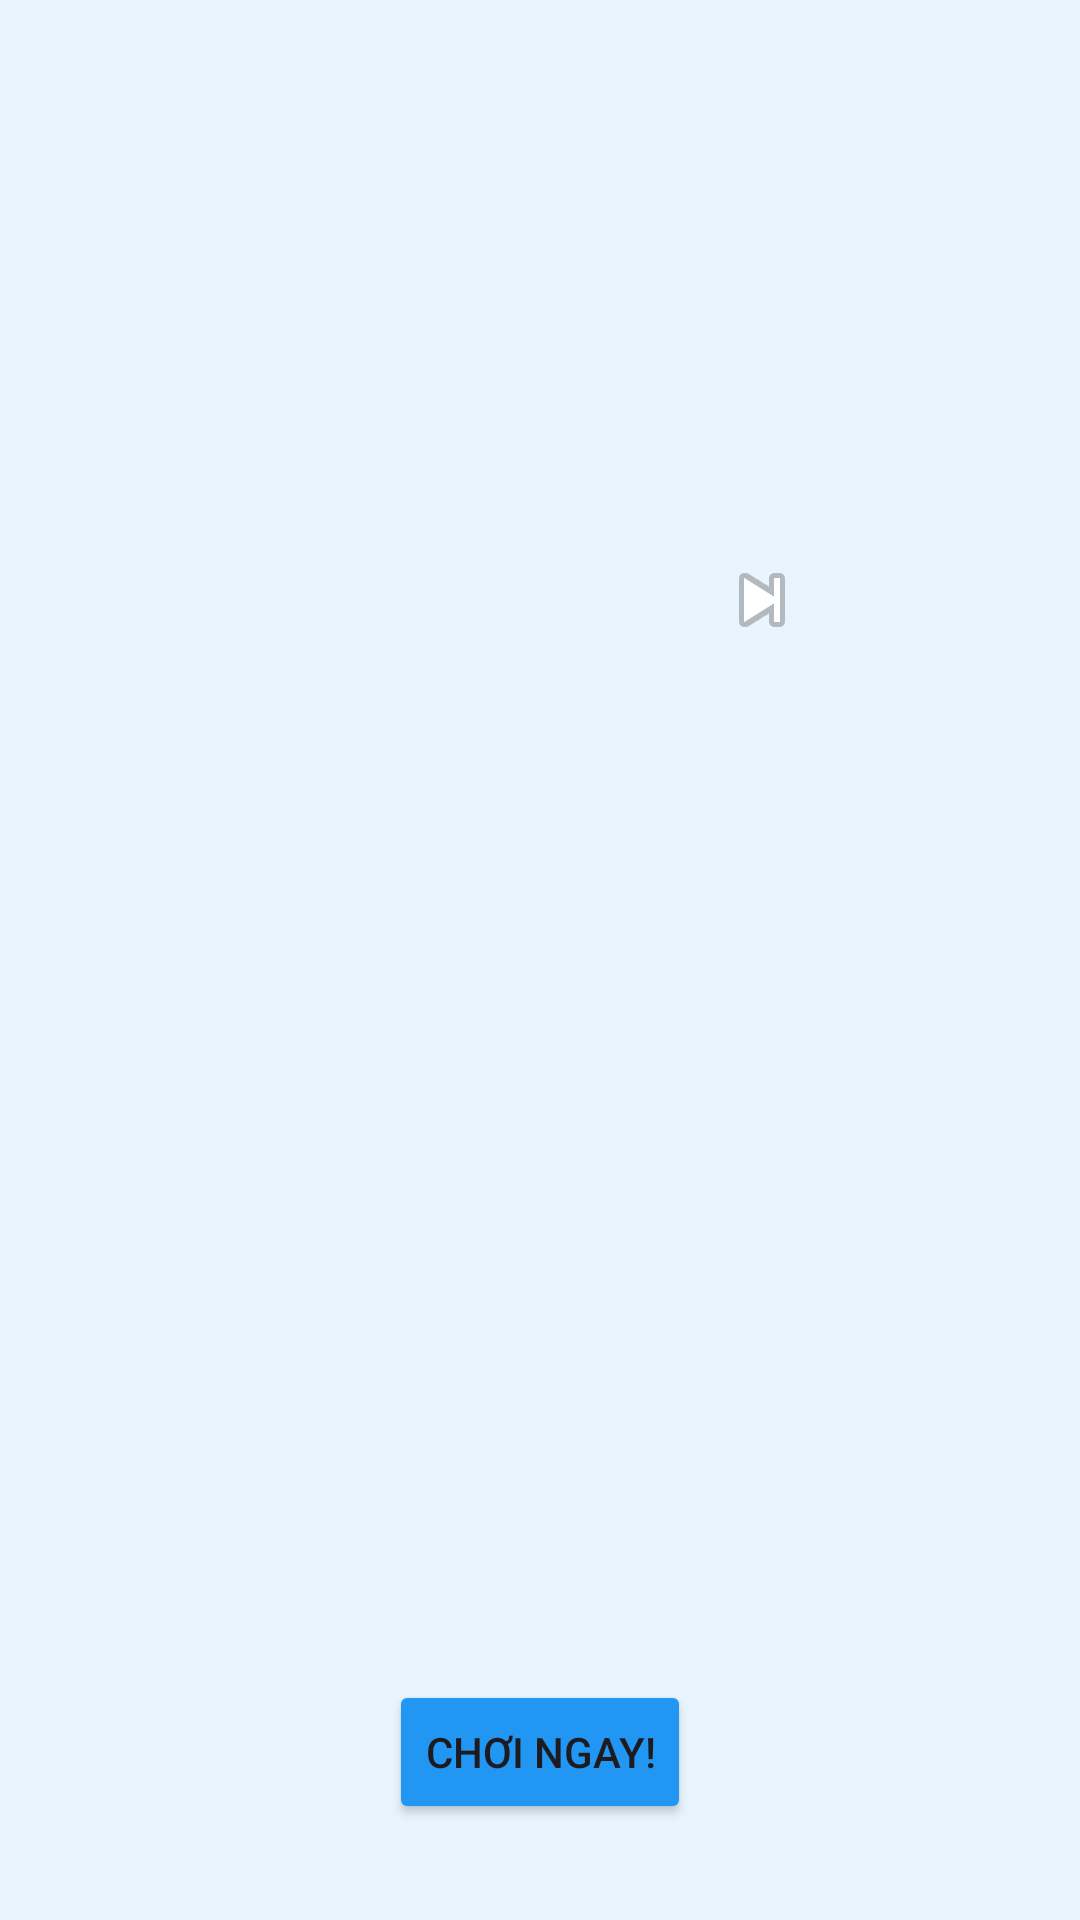

Icons on this 1080 x 1920 Android screen, each with the point to tap as [x,y]:
Next Step: [762,600]
